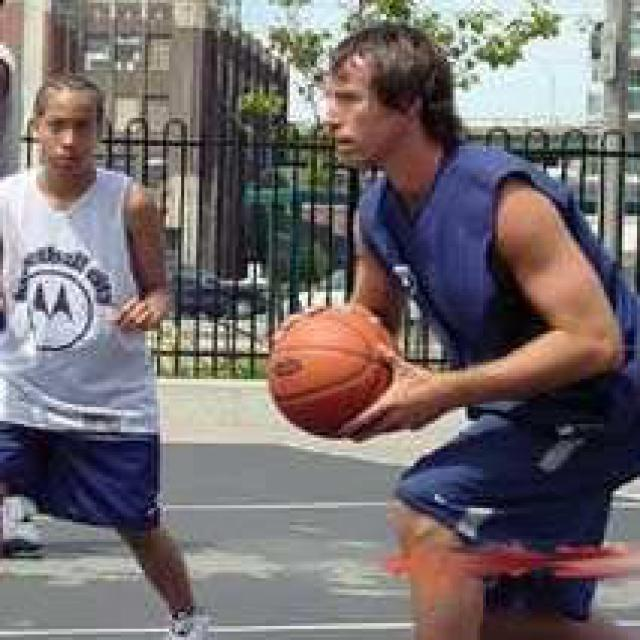basketball: (264, 310, 403, 444)
